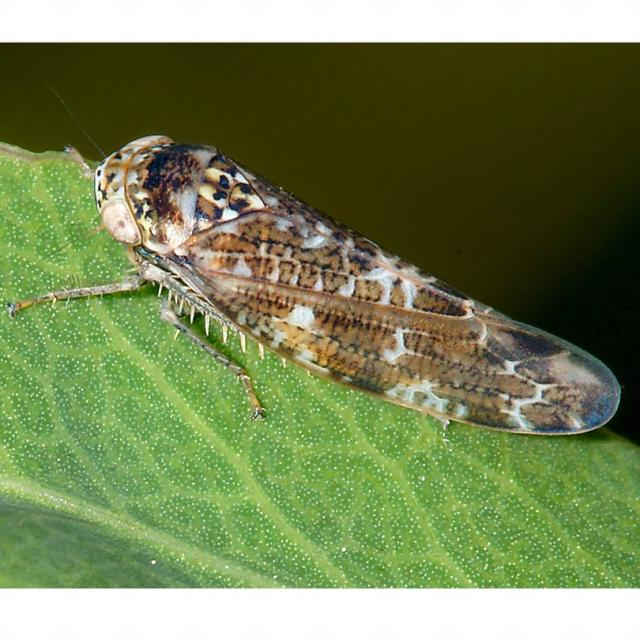Yechan: (71, 113, 624, 454)
